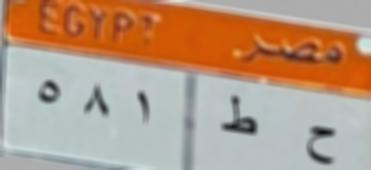1: (131, 85, 158, 128)
5: (37, 75, 64, 112)
7aa: (296, 118, 343, 170)
8: (80, 78, 111, 125)
Taa: (219, 92, 258, 143)
